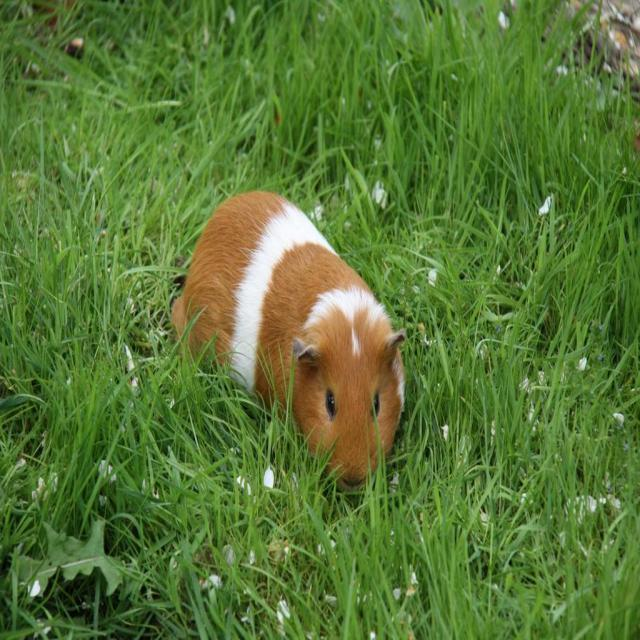rat: (168, 186, 410, 496)
